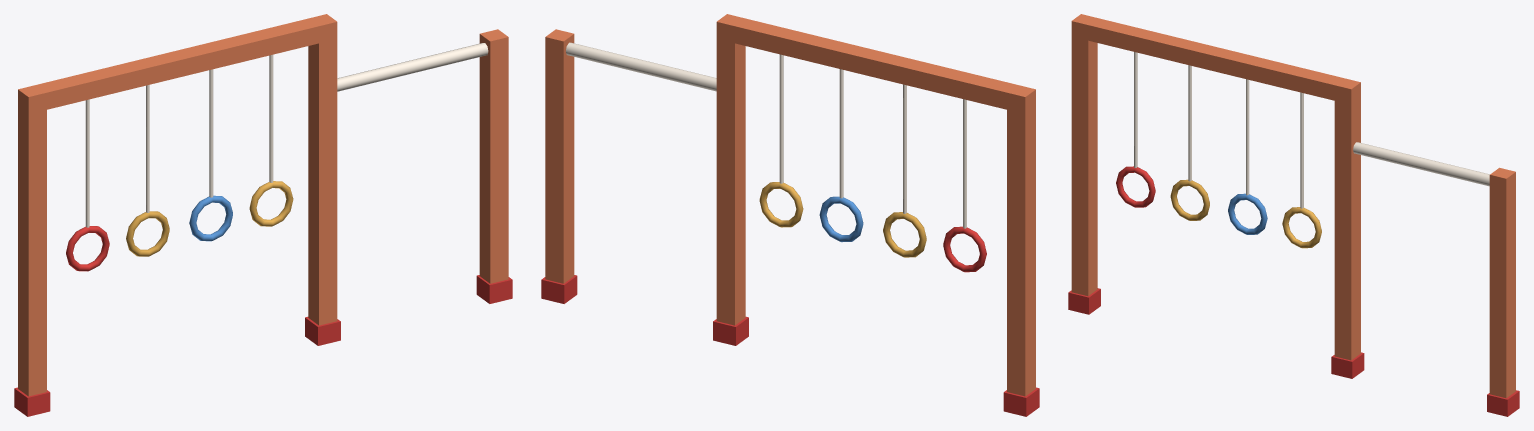
File: ClimbingFrame_06.fbx
3 views of the same model, side by side, from view 1: azimuth 30°, elevation 25°; view 2: azimuth 150°, elevation 25°; view 3: azimuth 330°, elevation 25° (orthographic). The views are drawn at different scales.
Parts seen in each view (by area): view 1: ClimbingFrame_06; view 2: ClimbingFrame_06; view 3: ClimbingFrame_06.
Part boxes in pixels (x1,y1,x2,y2): ClimbingFrame_06: [14, 14, 512, 416]; ClimbingFrame_06: [541, 14, 1039, 416]; ClimbingFrame_06: [1068, 14, 1519, 416].
Size of the model in its own units: 3.88 by 2.44 by 0.1834.
